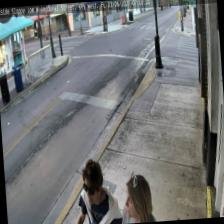person: (69, 157, 122, 224), (118, 169, 156, 223)
